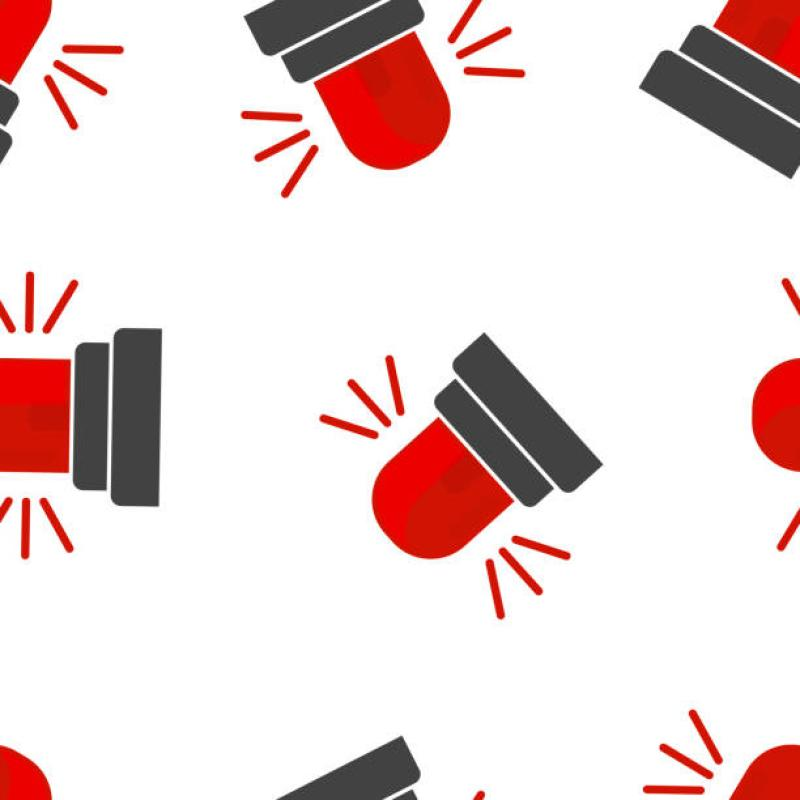AmbulanceSiren: (336, 295, 578, 596)
